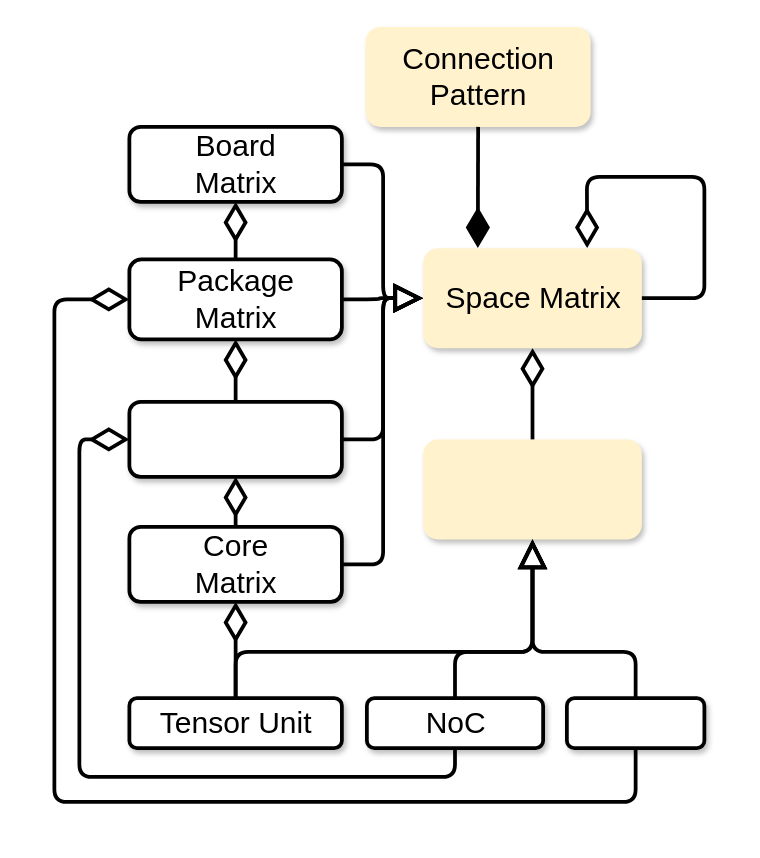
The diagram is 760 pixels wide and 858 high, and some of its shapes have lost their labels. Here are the shapes that lost their labels. From the top down, the centre of each, then its label:
At (x=236, y=440): "Chiplet Matrix".
At (x=533, y=491): "Space Point".
At (x=636, y=724): "HBM".
